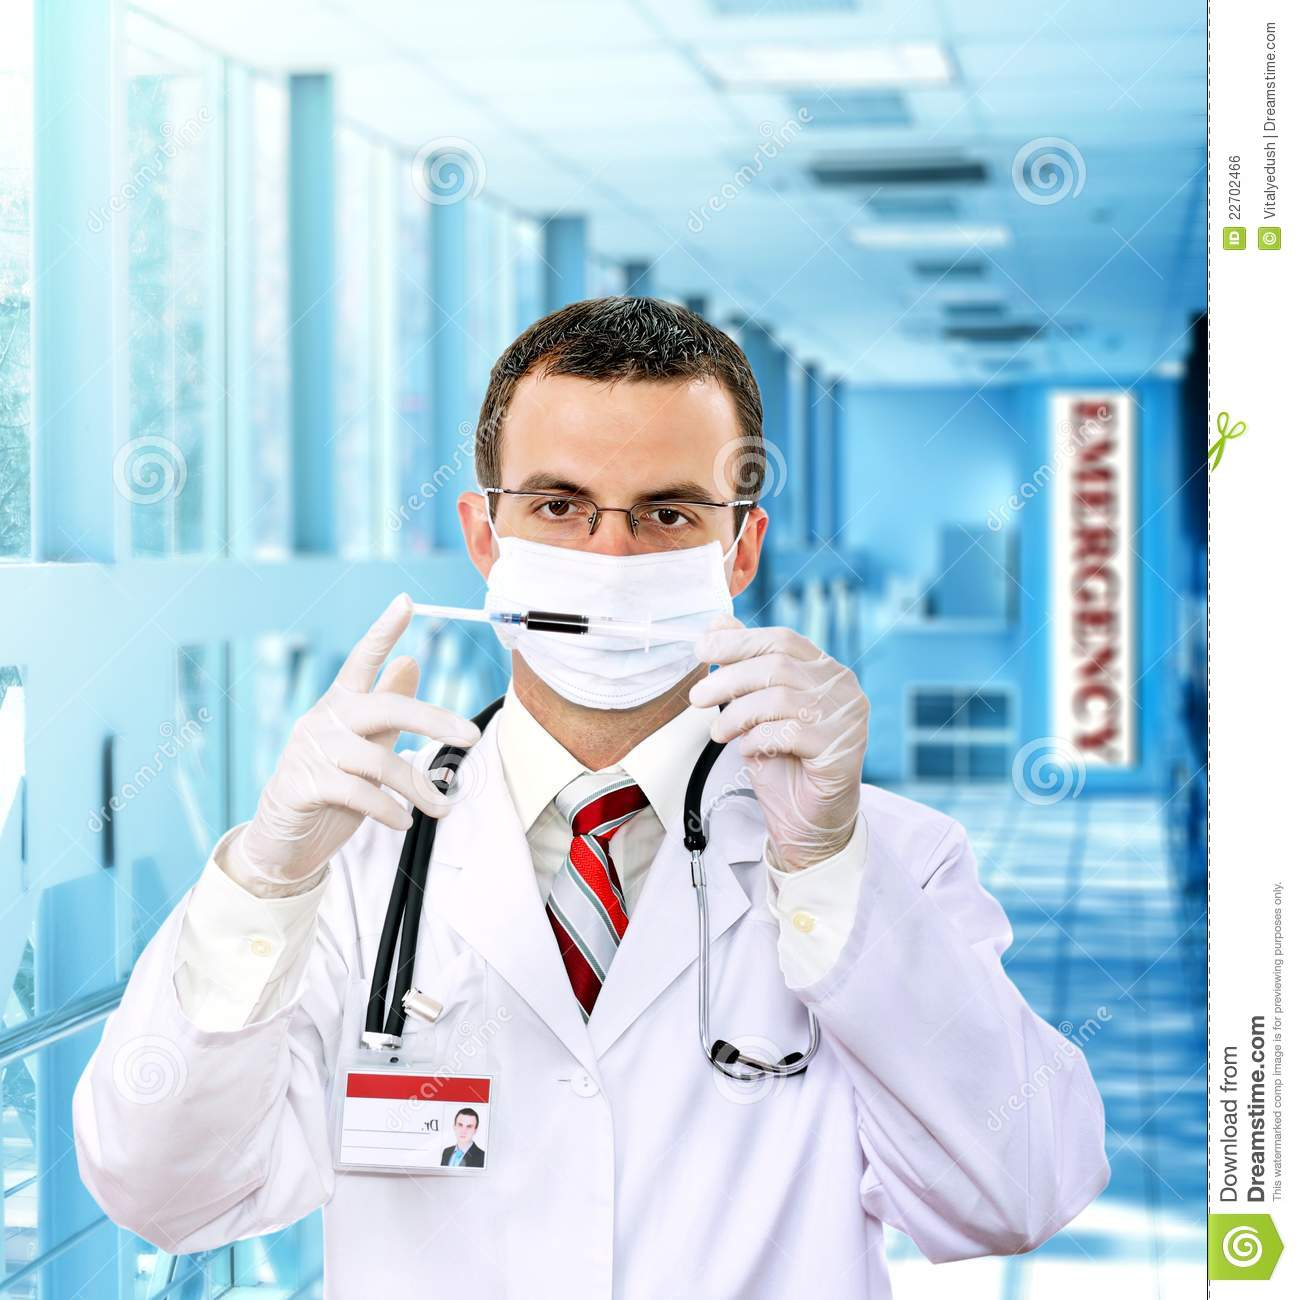mask: (472, 527, 752, 709)
